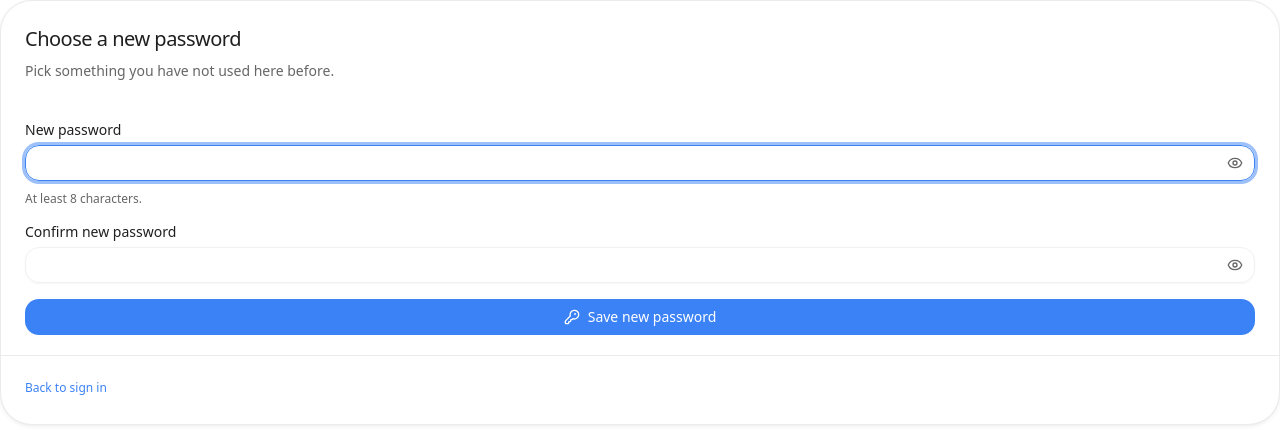
Test: with a usable token › confirms and offers the way back
The image size is (1280, 443).
Type "a-good-password" into the password field labelled "New password" at (640, 163), box [25,145,1255,181]
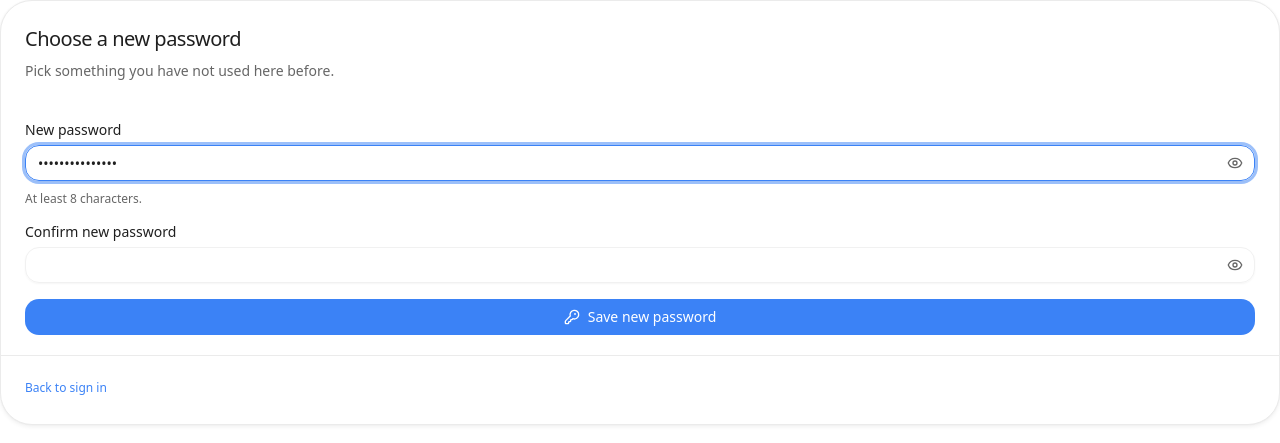
Type "a-good-password" into the password field labelled "Confirm new password" at (640, 265), box [25,247,1255,283]
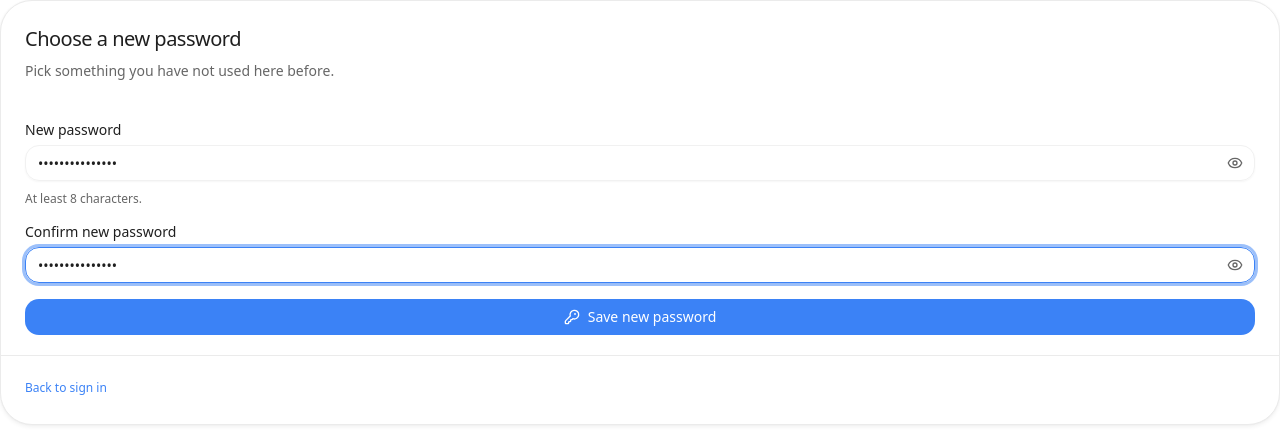
Click the button "Save new password" at (640, 317), box [25,299,1255,335]
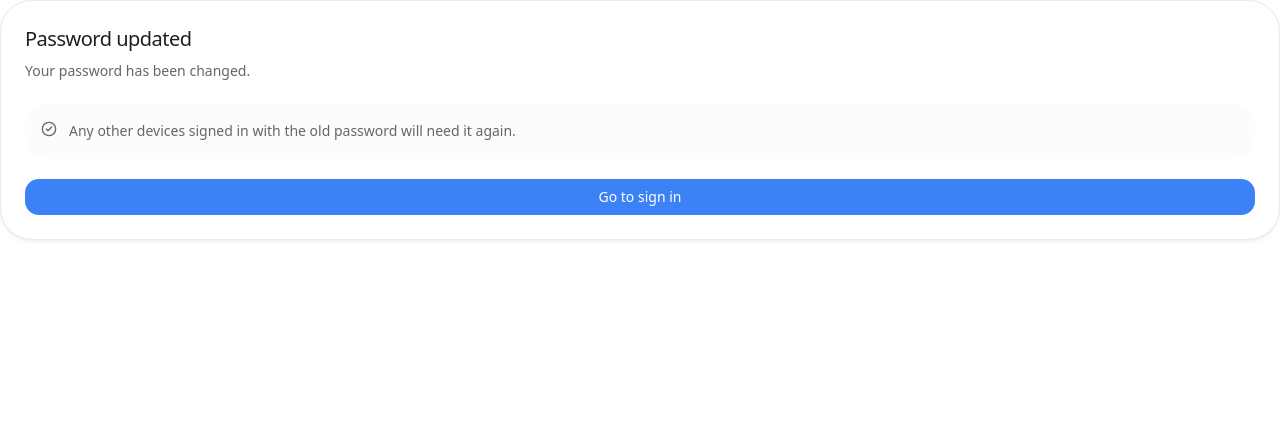
Check: the heading "Password updated" is shown, box [25,25,192,52]
